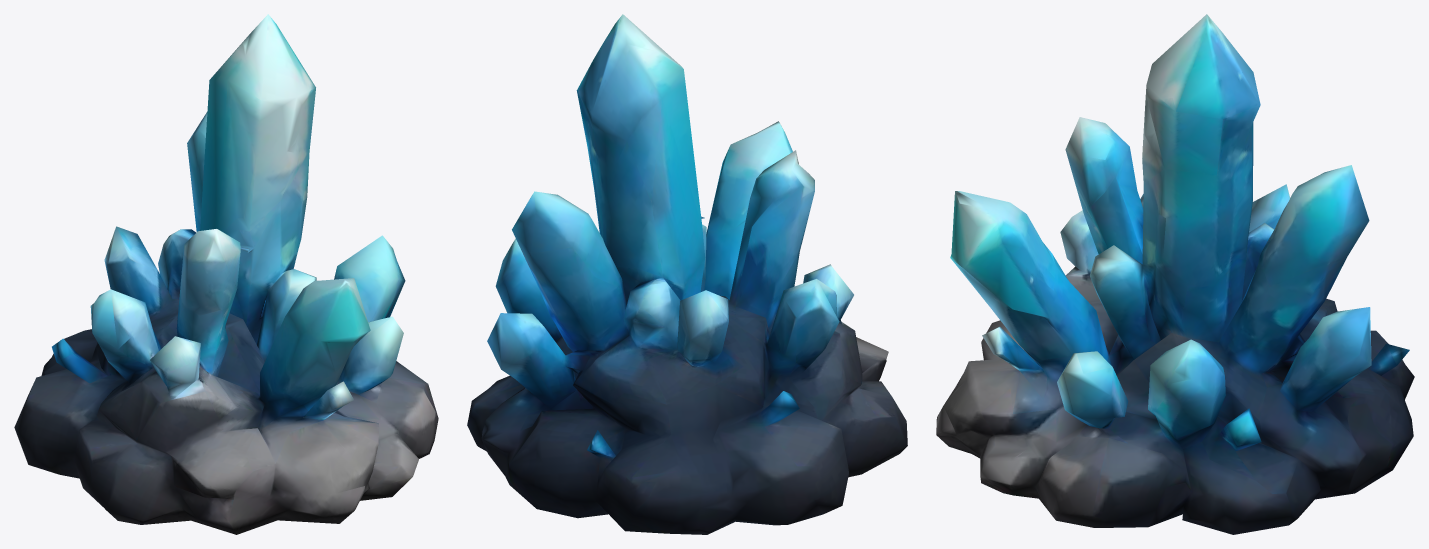
Rendered from e_crystal.glb.
3 views of the same model, side by side, from view 1: azimuth 30°, elevation 25°; view 2: azimuth 150°, elevation 25°; view 3: azimuth 270°, elevation 25° (orthographic). The views are drawn at different scales.
Parts seen in each view (by area): view 1: tripo_node_67f1c210-f8cc-4f0c-aab7-a3ca6d583630; view 2: tripo_node_67f1c210-f8cc-4f0c-aab7-a3ca6d583630; view 3: tripo_node_67f1c210-f8cc-4f0c-aab7-a3ca6d583630.
Part boxes in pixels (left/top/right/bottom): tripo_node_67f1c210-f8cc-4f0c-aab7-a3ca6d583630: left=14, top=14, right=438, bottom=534; tripo_node_67f1c210-f8cc-4f0c-aab7-a3ca6d583630: left=467, top=14, right=907, bottom=534; tripo_node_67f1c210-f8cc-4f0c-aab7-a3ca6d583630: left=936, top=14, right=1414, bottom=534.
Bounding box in the file's own units: 0.8898 × 1 × 0.9478.
Materials: 1 (1 with a texture image).
